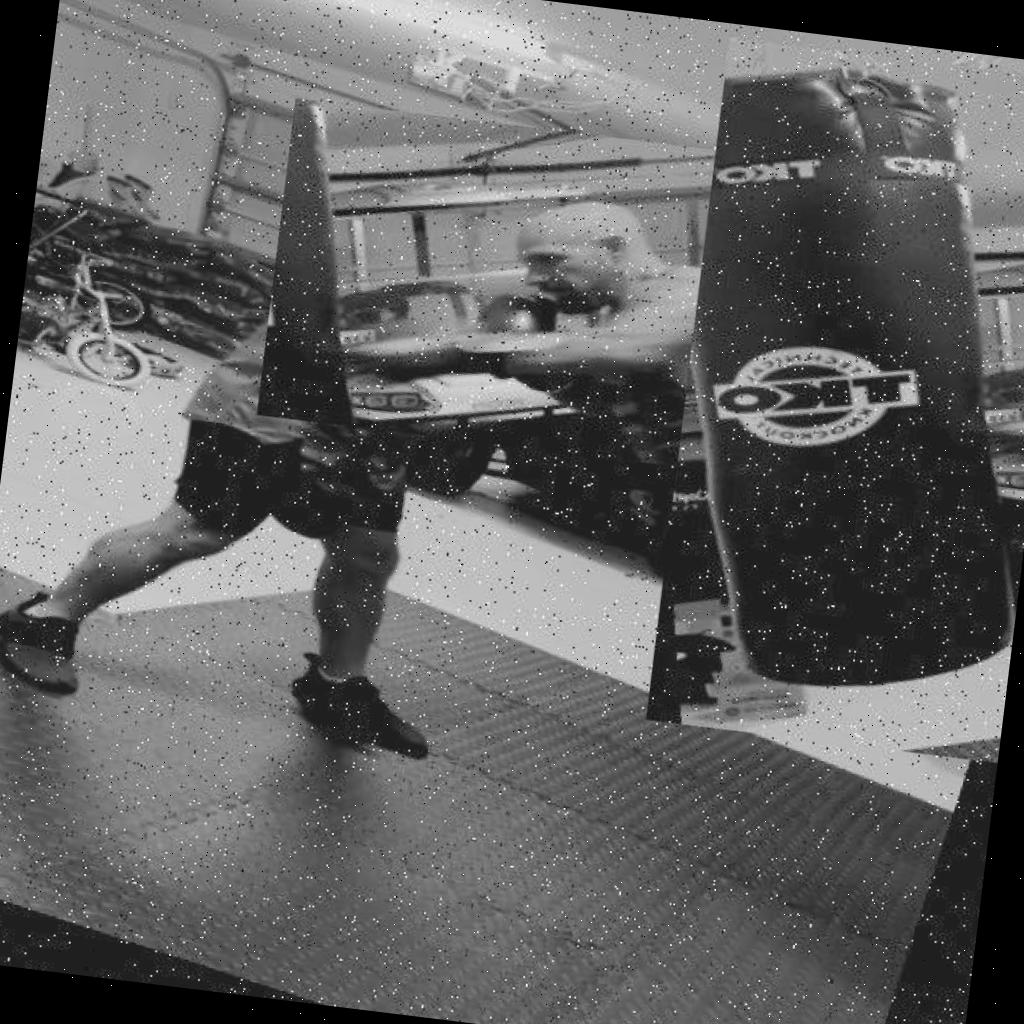bag: (645, 37, 1024, 762)
cross: (256, 98, 850, 483)
